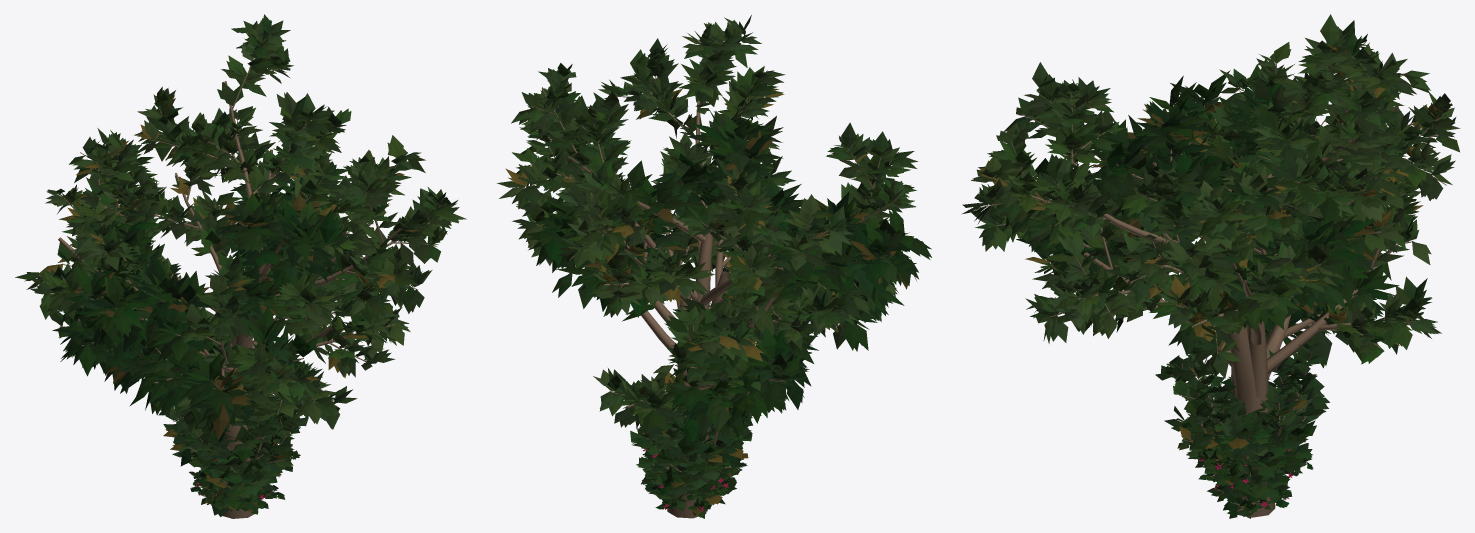
Rendered from plants_bg.glb.
3 renders of one model, left to right at view 1: azimuth 30°, elevation 25°; view 2: azimuth 150°, elevation 25°; view 3: azimuth 270°, elevation 25°, orthographic. The views are drawn at different scales.
Visible parts, largest first — view 1: NeemLiteLeaves, MangoLiteLeaves, NeemLite2Leaves, BushLeaves, NeemLiteBark, HedgeLeaves, MangoLiteBark, NeemLite2Bark; view 2: NeemLiteLeaves, MangoLiteLeaves, NeemLite2Leaves, BushLeaves, NeemLiteBark, HedgeLeaves, MangoLiteBark, NeemLite2Bark; view 3: NeemLiteLeaves, NeemLite2Leaves, MangoLiteLeaves, BushLeaves, NeemLite2Bark, NeemLiteBark, HedgeLeaves, MangoLiteBark, BushBark.
Boxes of the visible parts, x1,y1,x2,y2 form: NeemLiteLeaves: (15, 14, 466, 434); MangoLiteLeaves: (49, 177, 351, 439); NeemLite2Leaves: (75, 128, 425, 429); BushLeaves: (150, 383, 308, 516); NeemLiteBark: (38, 33, 441, 430); HedgeLeaves: (189, 447, 300, 514); MangoLiteBark: (59, 218, 331, 518); NeemLite2Bark: (110, 157, 398, 414); NeemLiteLeaves: (497, 15, 917, 368); MangoLiteLeaves: (526, 109, 931, 443); NeemLite2Leaves: (512, 118, 846, 432); BushLeaves: (625, 368, 761, 507); NeemLiteBark: (524, 39, 896, 346); HedgeLeaves: (642, 448, 747, 518); MangoLiteBark: (582, 135, 884, 518); NeemLite2Bark: (534, 140, 782, 410); NeemLiteLeaves: (961, 14, 1460, 270); NeemLite2Leaves: (1025, 74, 1441, 378); MangoLiteLeaves: (1016, 70, 1399, 368); BushLeaves: (1155, 317, 1329, 499); NeemLite2Bark: (1050, 92, 1414, 412); NeemLiteBark: (982, 42, 1447, 429); HedgeLeaves: (1195, 448, 1313, 518); MangoLiteBark: (1083, 101, 1357, 517); BushBark: (1171, 317, 1317, 485).
Size of the model in its own units: 4.89 by 5.87 by 5.13.
